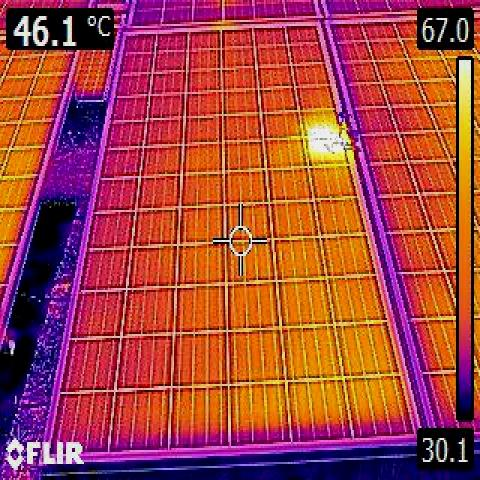fault: (308, 129, 344, 160)
